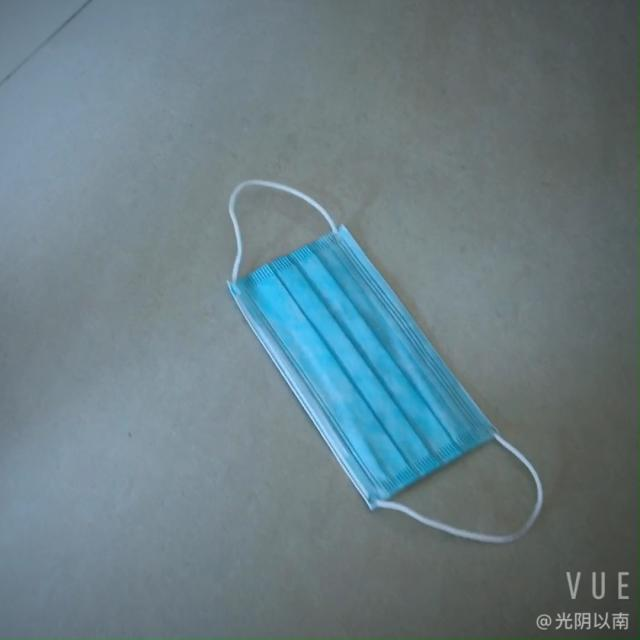face mask: (218, 211, 471, 518)
